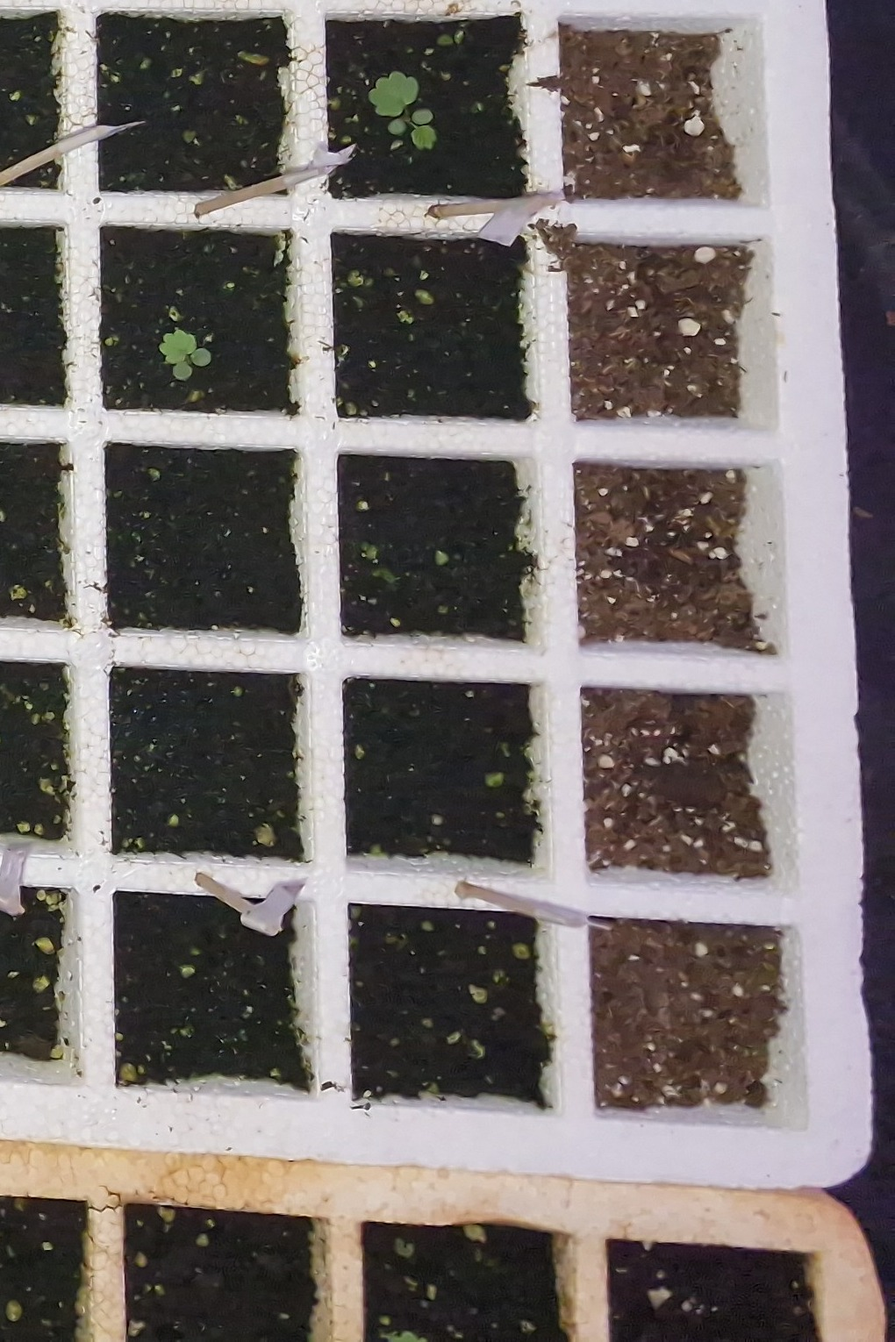Folha: (369, 72, 418, 116), (160, 330, 197, 364), (411, 126, 436, 149), (191, 348, 210, 366), (412, 110, 433, 125), (174, 361, 192, 378), (388, 119, 406, 134)
Germinacao: (369, 72, 437, 149), (159, 330, 210, 379)
